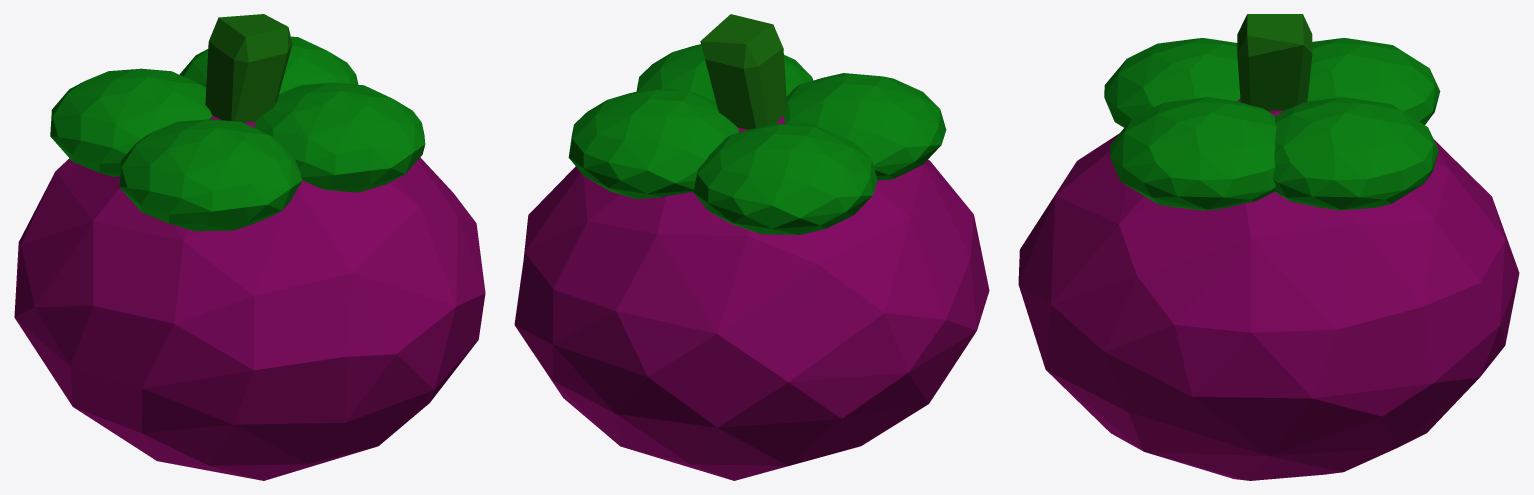
Rendered from Mangosteen.fbx.
The picture shows the model from 3 angles, left to right: view 1: azimuth 30°, elevation 25°; view 2: azimuth 150°, elevation 25°; view 3: azimuth 270°, elevation 25°; orthographic projection. The views are drawn at different scales.
Parts seen in each view (by area): view 1: Cube, Cube.004, Cube.003, Cube.001, Cube.005, Cube.002; view 2: Cube, Cube.001, Cube.002, Cube.004, Cube.005, Cube.003; view 3: Cube, Cube.003, Cube.002, Cube.004, Cube.001, Cube.005.
Boxes of the visible parts, left/top/right/bottom form: Cube: left=14, top=115, right=485, bottom=480; Cube.004: left=119, top=119, right=301, bottom=231; Cube.003: left=254, top=82, right=425, bottom=192; Cube.001: left=50, top=68, right=212, bottom=176; Cube.005: left=205, top=14, right=292, bottom=122; Cube.002: left=179, top=36, right=358, bottom=93; Cube: left=514, top=115, right=989, bottom=480; Cube.001: left=693, top=123, right=877, bottom=234; Cube.002: left=568, top=88, right=738, bottom=199; Cube.004: left=784, top=73, right=946, bottom=180; Cube.005: left=700, top=14, right=787, bottom=129; Cube.003: left=636, top=44, right=812, bottom=101; Cube: left=1018, top=99, right=1519, bottom=480; Cube.003: left=1110, top=97, right=1276, bottom=210; Cube.002: left=1273, top=97, right=1438, bottom=210; Cube.004: left=1104, top=38, right=1240, bottom=127; Cube.001: left=1307, top=38, right=1440, bottom=124; Cube.005: left=1237, top=14, right=1312, bottom=111.
Size of the model in its own units: 342 by 344 by 351.
